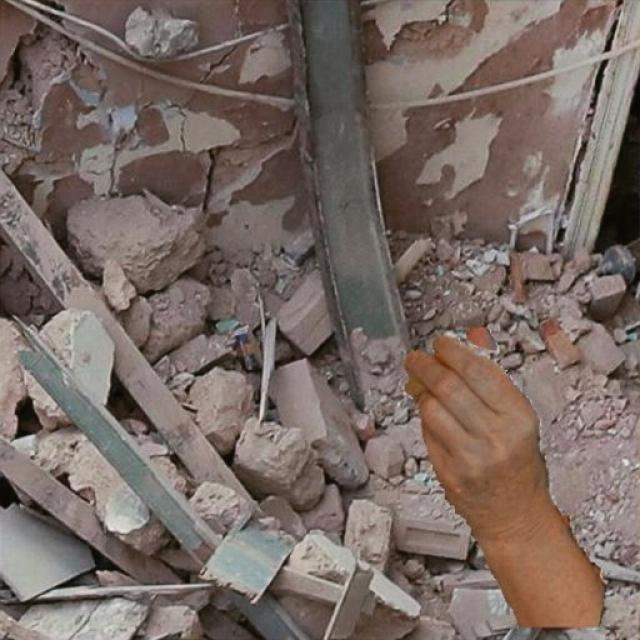Person in Rubble: (402, 328, 606, 626)
